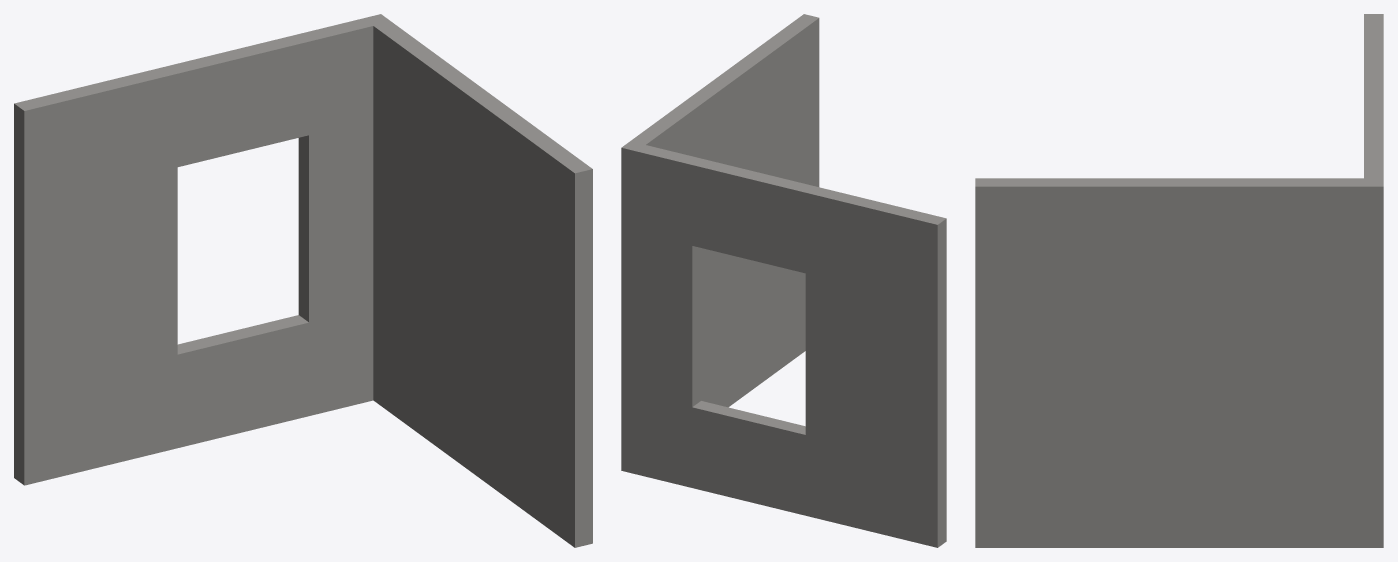
Rendered from Wal_2_Corner_D.fbx.
3 views of the same model, side by side, from view 1: azimuth 30°, elevation 25°; view 2: azimuth 150°, elevation 25°; view 3: azimuth 270°, elevation 25° (orthographic). The views are drawn at different scales.
Parts seen in each view (by area): view 1: polySurface14; view 2: polySurface14; view 3: polySurface14.
Boxes of the visible parts, x1,y1,x2,y2 form: polySurface14: (14, 14, 592, 547); polySurface14: (621, 14, 946, 547); polySurface14: (975, 14, 1383, 547).
Size of the model in its own units: 4.1 by 4 by 4.1.
1 material, 1 textured.
